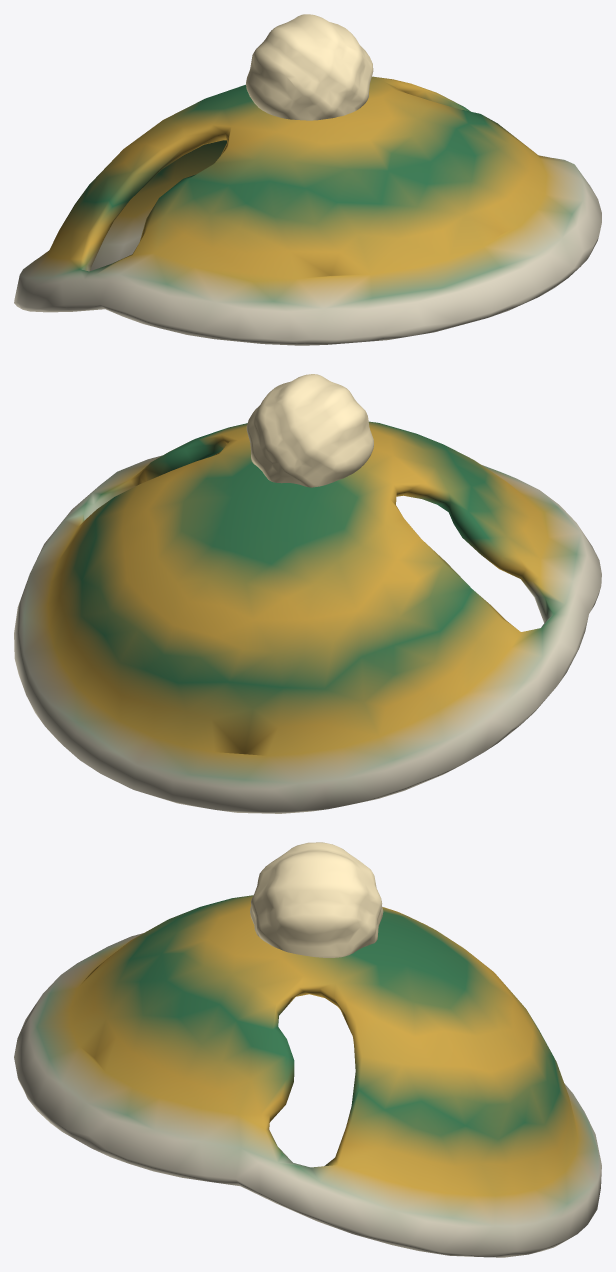
File: munlen.glb
The picture shows the model from 3 angles, top to bottom: view 1: azimuth 30°, elevation 25°; view 2: azimuth 150°, elevation 25°; view 3: azimuth 270°, elevation 25°; orthographic projection. The views are drawn at different scales.
Parts seen in each view (by area): view 1: Mu_Len, Qua_Bong; view 2: Mu_Len, Qua_Bong; view 3: Mu_Len, Qua_Bong.
Part boxes in pixels (box(x1,y1,x2,y2)): Mu_Len: box(14, 76, 601, 345); Qua_Bong: box(246, 14, 373, 120); Mu_Len: box(14, 421, 601, 813); Qua_Bong: box(246, 374, 373, 487); Mu_Len: box(14, 895, 601, 1257); Qua_Bong: box(250, 842, 383, 957).
Size of the model in its own units: 0.2864 by 0.1712 by 0.268.
